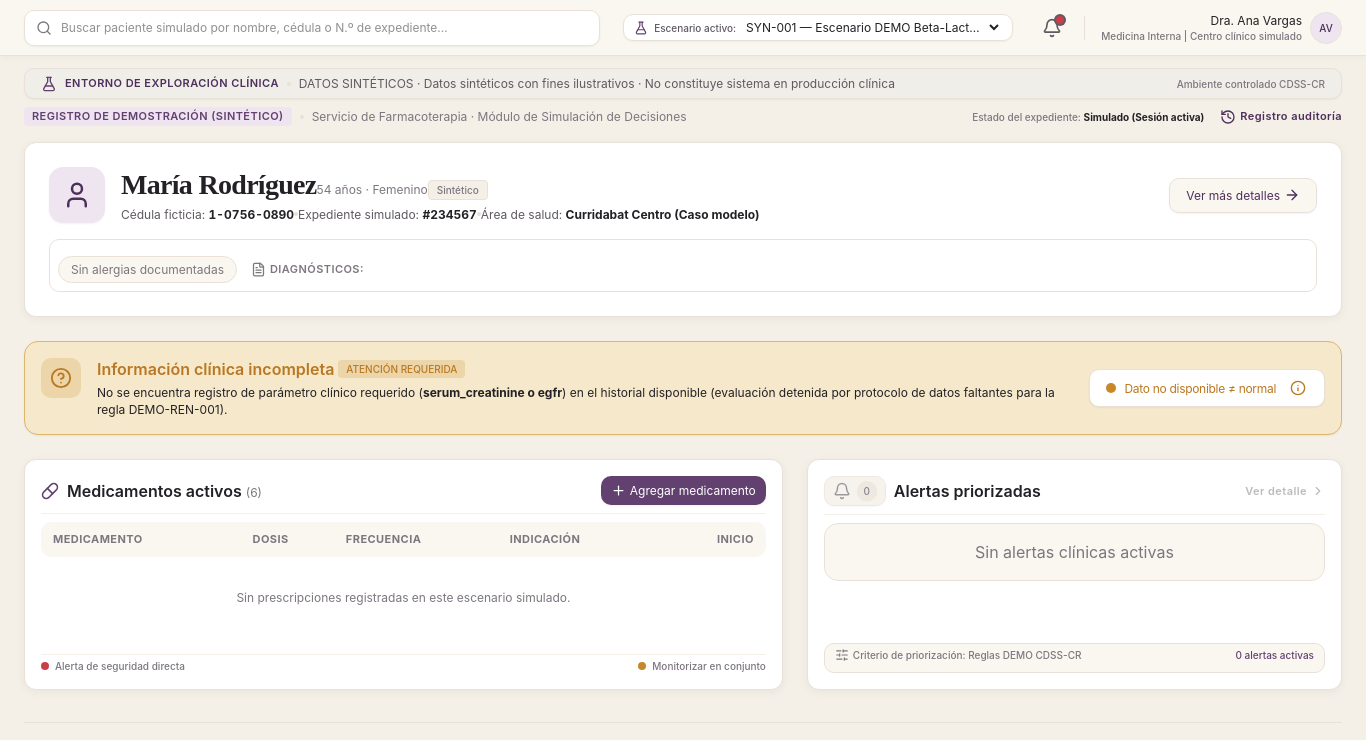
Test case: Dashboard Visual Baseline — 1:1 Stitch Converged › Scenario-Driven Alert Rendering & Consistency (Regression) › ensures changing scenarios updates the alert collection consistently
Expected: the text with test id "alert-count-badge" reads "0", [864,485,870,497]
Expected: the text with test id "panel-footer-alert-count" reads "0 alertas activas", [1235,648,1314,662]
Select "SYN-002 — Escenario DEMO Penicillin Allergy High Risk" in the dropdown named "seleccionar escenario sintético activo" at (872, 28), box [742,19,1002,36]
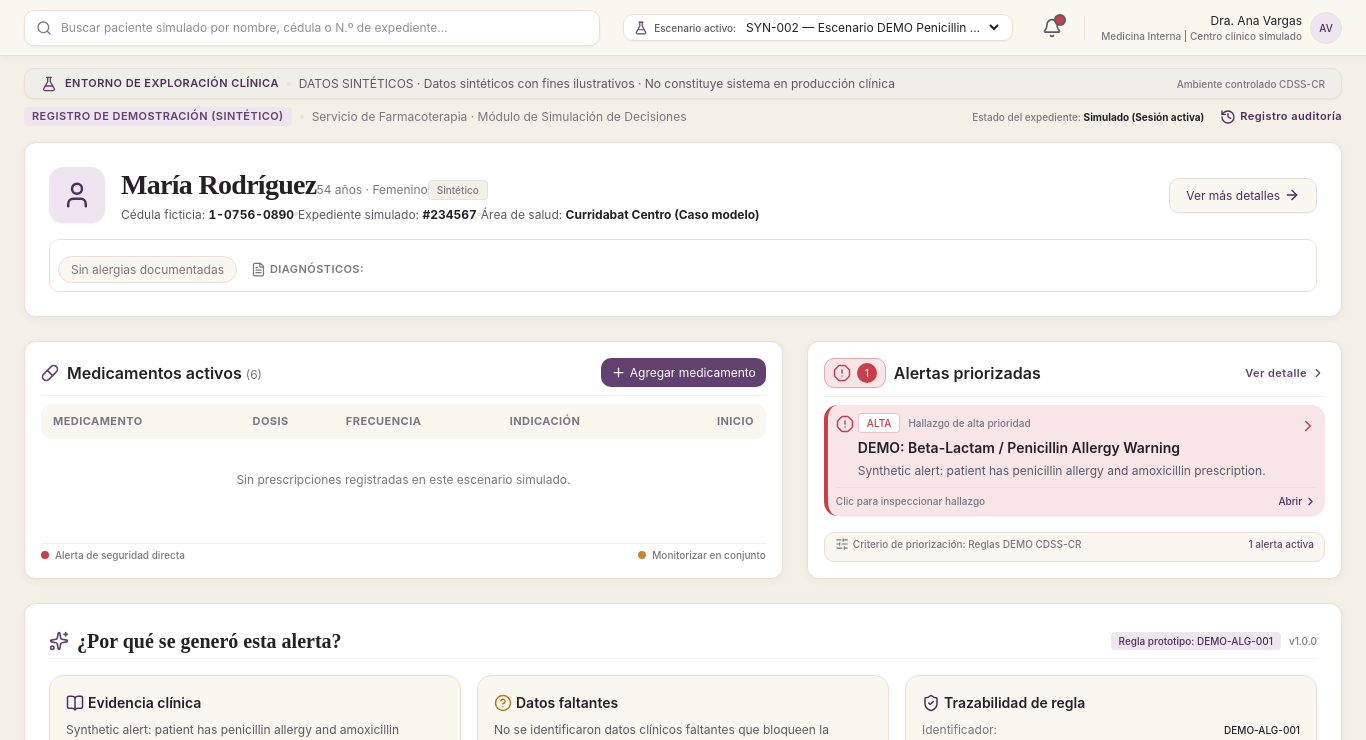
Now the number of buttons named "seleccionar alerta" is 1, box [824,405,1325,516]
Now the text with test id "alert-count-badge" reads "1", box [865,367,869,379]
Now the text with test id "panel-footer-alert-count" reads "1 alerta activa", box [1248,537,1314,551]
# Switch back to SYN-001: 0 findings
Select "SYN-001 — Escenario DEMO Beta-Lactam Allergy" in the dropdown named "seleccionar escenario sintético activo" at (872, 28), box [742,19,1002,36]
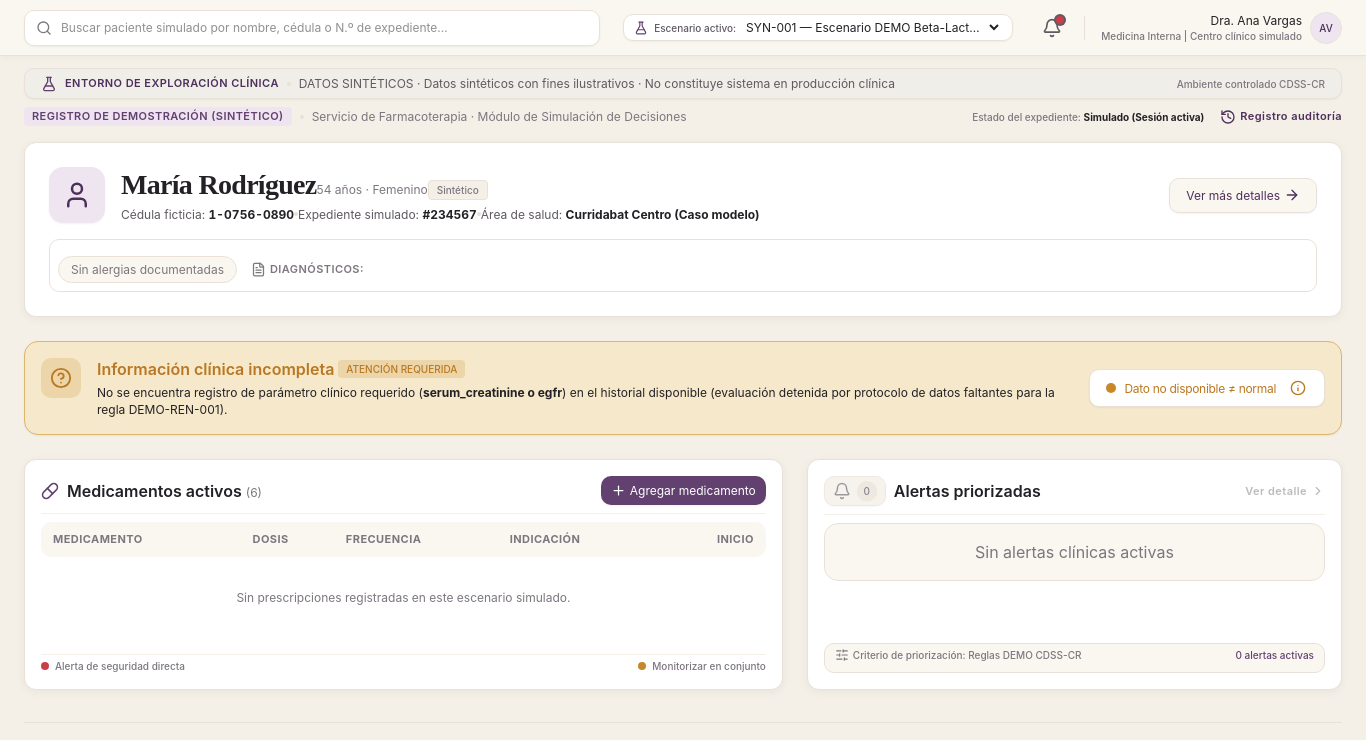
Now the text with test id "alert-count-badge" reads "0", box [864,485,870,497]
Now the text with test id "panel-footer-alert-count" reads "0 alertas activas", box [1235,648,1314,662]
